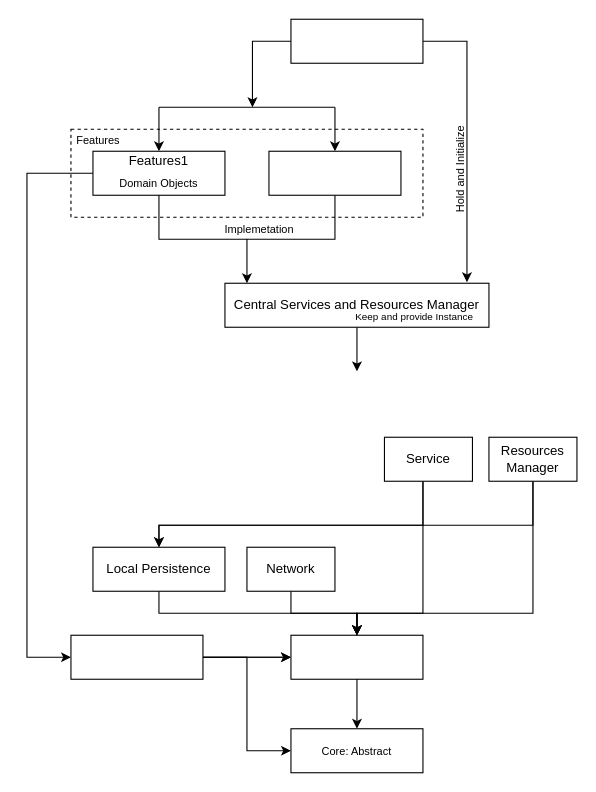
The diagram is 596 pixels wide and 792 high, and some of its shapes have lost their labels. Each missing label, with the centre of its shape:
"Application" goes at (356,40).
"Base: Base Android Components" goes at (136,656).
"Core Components: Abstract or Interface" goes at (356,656).
"Features x Domain Objects" goes at (334,172).
